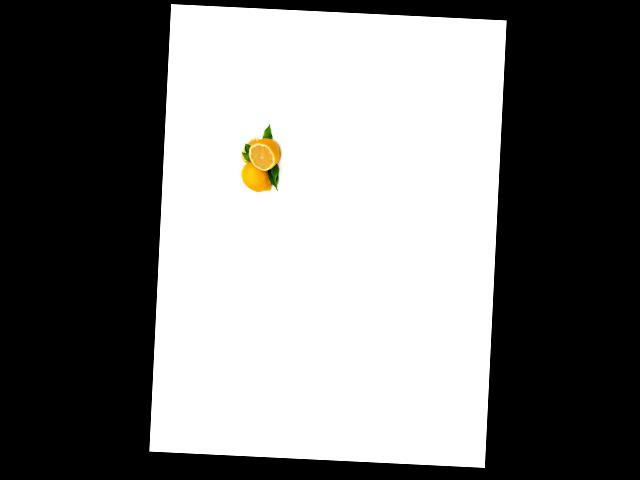lemon: (247, 135, 283, 172)
